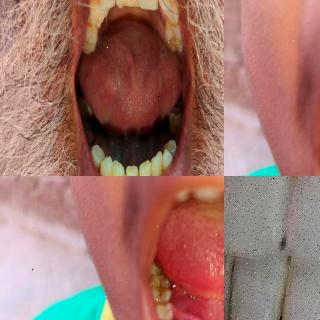cavities: (155, 274, 171, 306)
stains: (158, 157, 170, 175), (105, 169, 117, 176)
